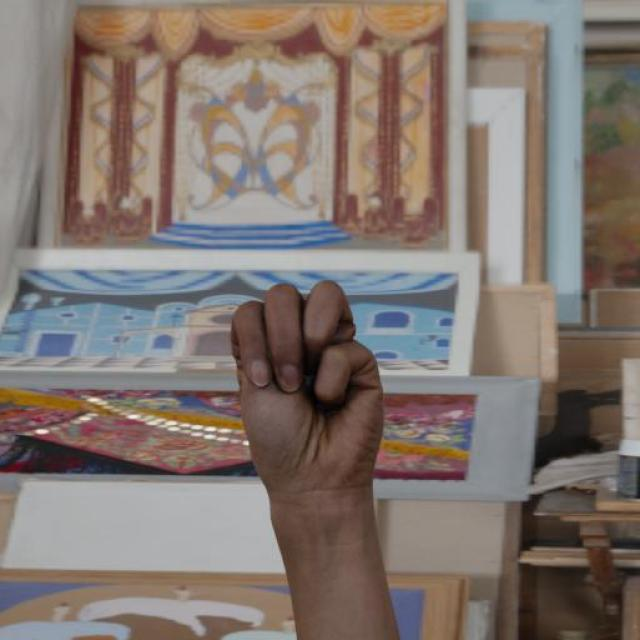M: (226, 276, 388, 497)
